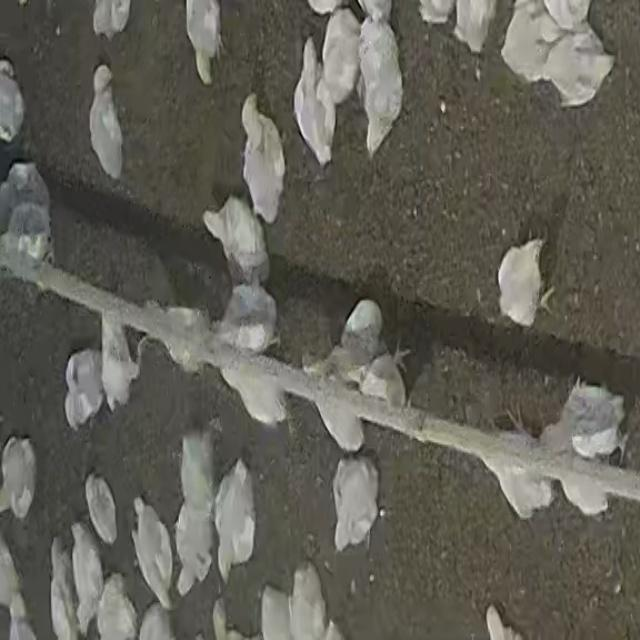chicken: (476, 423, 552, 516), (233, 92, 285, 223), (552, 379, 627, 463), (311, 298, 393, 368), (353, 22, 396, 149), (213, 458, 255, 584), (203, 200, 269, 280), (130, 498, 176, 610), (294, 45, 334, 171), (542, 32, 611, 105), (219, 361, 290, 430), (498, 2, 562, 77), (90, 65, 129, 183), (329, 456, 381, 543), (99, 314, 141, 412), (499, 241, 546, 328), (210, 286, 278, 346), (68, 524, 105, 632), (168, 502, 212, 592), (172, 434, 218, 520), (64, 350, 108, 430), (322, 14, 362, 98), (185, 2, 225, 86), (351, 354, 416, 402), (1, 437, 37, 522), (84, 473, 118, 548), (0, 59, 26, 143)
